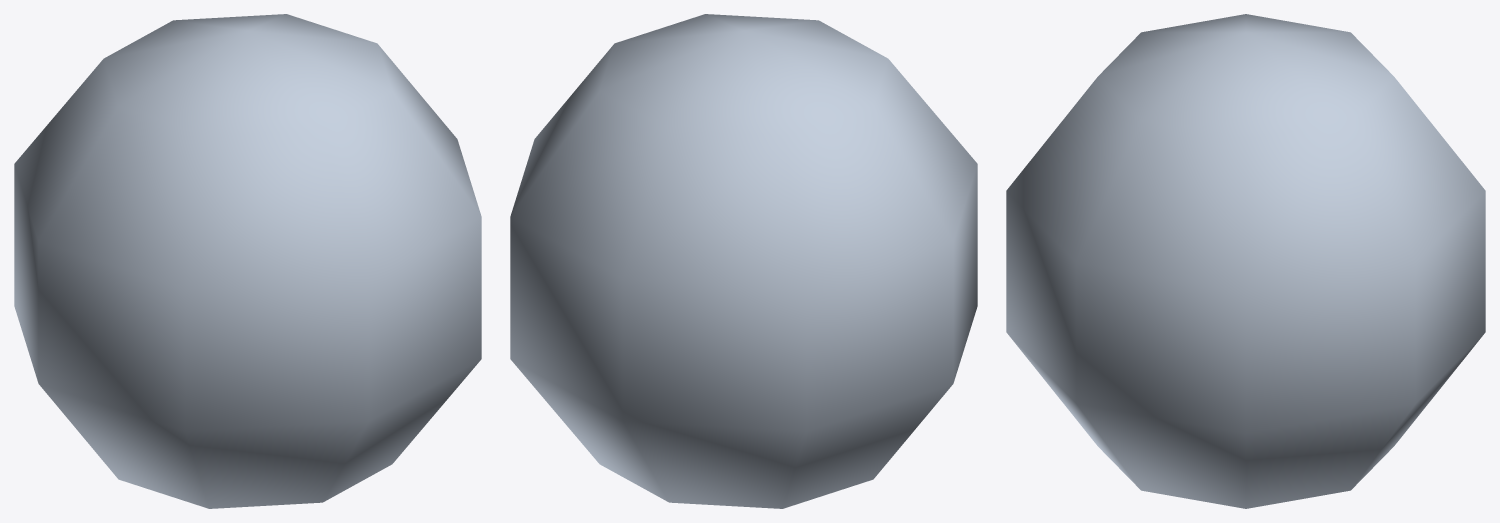
Rendered from marble-low.obj.
3 renders of one model, left to right at view 1: azimuth 30°, elevation 25°; view 2: azimuth 150°, elevation 25°; view 3: azimuth 270°, elevation 25°, orthographic.
Parts seen in each view (by area): view 1: (%ignore); view 2: (%ignore); view 3: (%ignore).
Part boxes in pixels (<box>): (%ignore): <box>14,14,481,508</box>; (%ignore): <box>510,14,977,508</box>; (%ignore): <box>1006,14,1485,508</box>.
Bounding box in the file's own units: 0.3804 × 0.4 × 0.3804.
